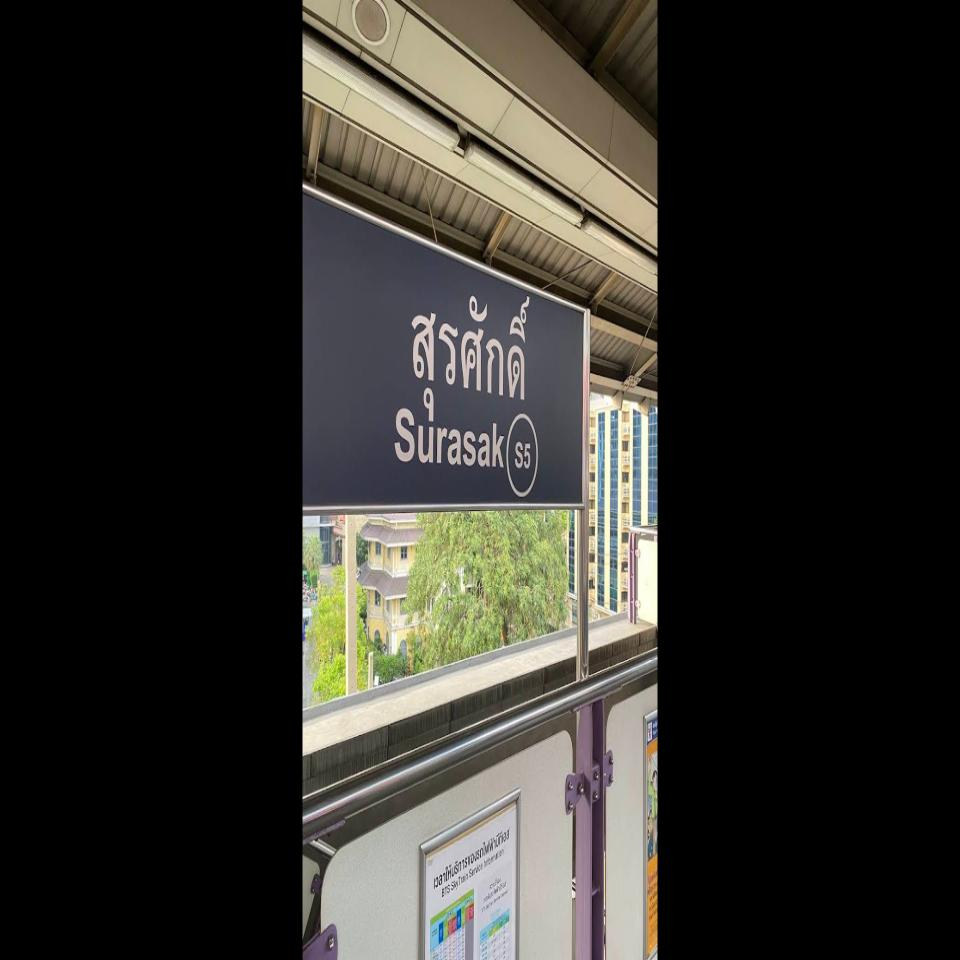Surasak: (302, 182, 587, 517)
